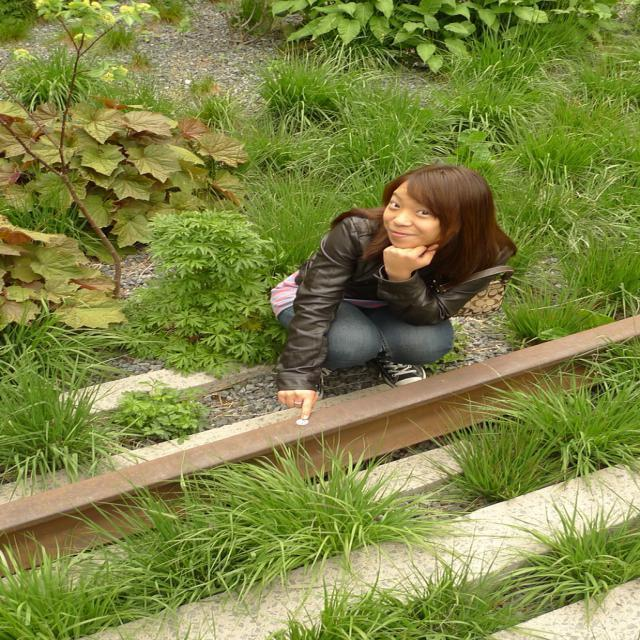closed-mouth: (386, 226, 418, 240)
